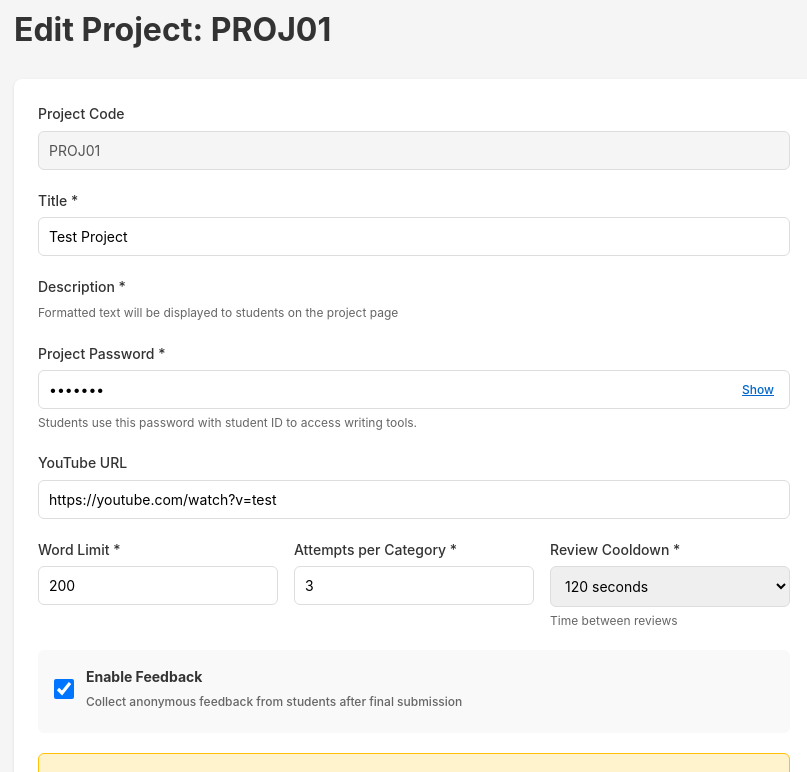
Test: EditProject Component › Password Pre-fill and Show/Hide Toggle › should toggle password visibility multiple times
Show password
Click the button "Show" at (758, 389), box [734, 378, 782, 401]
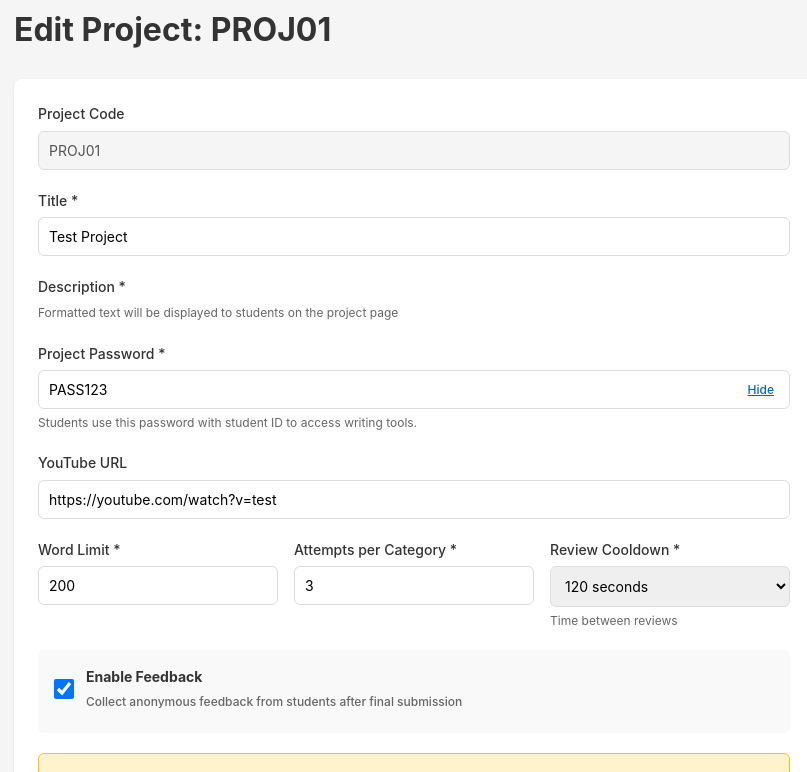
Check: the field named "projectPassword" below "Project Password *" shows its text, box [38, 370, 790, 409]
Hide password
Click the button "Hide" at (761, 389), box [740, 378, 782, 401]
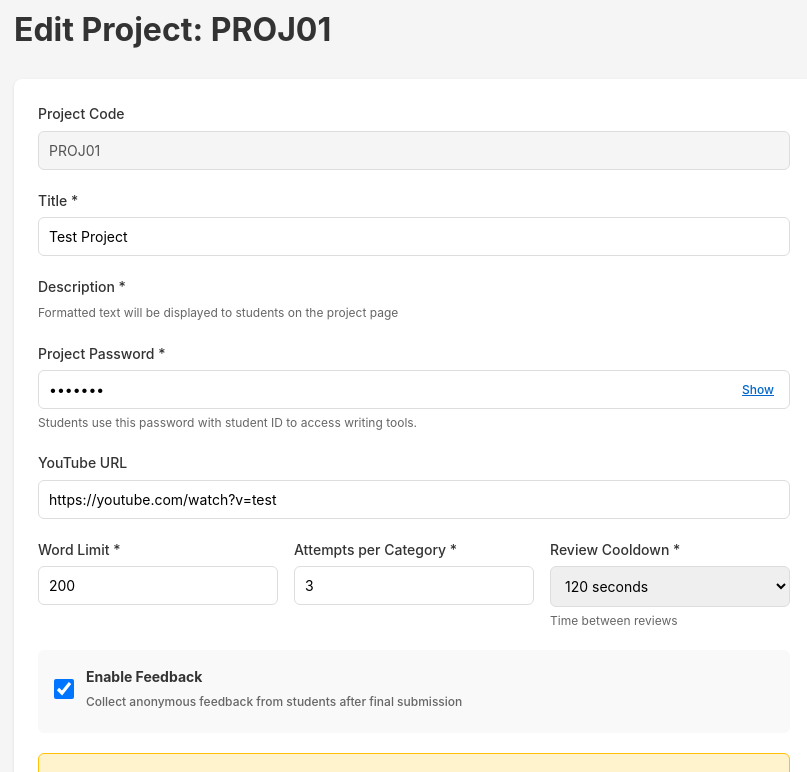
Check: the password field named "projectPassword" hides its text, box [38, 370, 790, 409]
